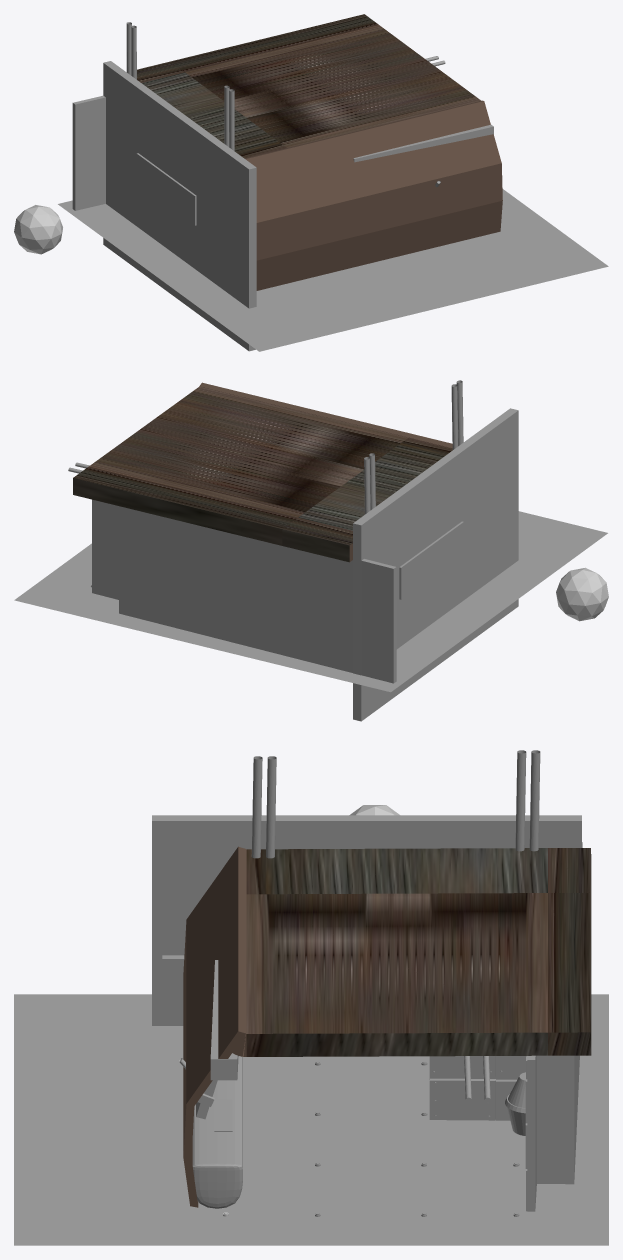
File: camarote.obj
3 views of the same model, one above another, from view 1: azimuth 30°, elevation 25°; view 2: azimuth 150°, elevation 25°; view 3: azimuth 270°, elevation 25° (orthographic). The views are drawn at different scales.
Visible parts, largest first — view 1: Cube.001, Plane_Plane.001, Cube.007_Cube.008, Cube, Cube.006_Cube.007, Icosphere; view 2: Cube.001, Cube, Cube.007_Cube.008, Plane_Plane.001, Cube.006_Cube.007, Icosphere; view 3: Plane_Plane.001, Cube.001, Cube.007_Cube.008, Cube, Cube.002_Cube.003, Cylinder.000, Cylinder.092_Cylinder.094, Cylinder.001, Cylinder.002, Cylinder.091_Cylinder.093.
Part boxes in pixels (x1=…): Cube.001: x1=137, y1=14, x2=502, y2=290; Plane_Plane.001: x1=58, y1=189, x2=608, y2=351; Cube.007_Cube.008: x1=103, y1=61, x2=256, y2=351; Cube: x1=72, y1=95, x2=493, y2=210; Cube.006_Cube.007: x1=136, y1=153, x2=196, y2=225; Icosphere: x1=14, y1=205, x2=62, y2=254; Cube.001: x1=73, y1=382, x2=452, y2=562; Cube: x1=92, y1=499, x2=396, y2=683; Cube.007_Cube.008: x1=353, y1=408, x2=518, y2=721; Plane_Plane.001: x1=14, y1=511, x2=607, y2=692; Cube.006_Cube.007: x1=399, y1=521, x2=463, y2=599; Icosphere: x1=556, y1=567, x2=608, y2=621; Plane_Plane.001: x1=14, y1=994, x2=608, y2=1245; Cube.001: x1=183, y1=846, x2=591, y2=1207; Cube.007_Cube.008: x1=152, y1=815, x2=581, y2=1025; Cube: x1=210, y1=842, x2=582, y2=1211; Cube.002_Cube.003: x1=192, y1=1056, x2=242, y2=1208; Cylinder.000: x1=266, y1=756, x2=276, y2=858; Cylinder.092_Cylinder.094: x1=251, y1=756, x2=262, y2=858; Cylinder.001: x1=529, y1=750, x2=540, y2=851; Cylinder.002: x1=515, y1=750, x2=526, y2=851; Cylinder.091_Cylinder.093: x1=505, y1=1072, x2=525, y2=1135.
Bounding box in the file's own units: 21.52 × 10.1 × 16.05.
